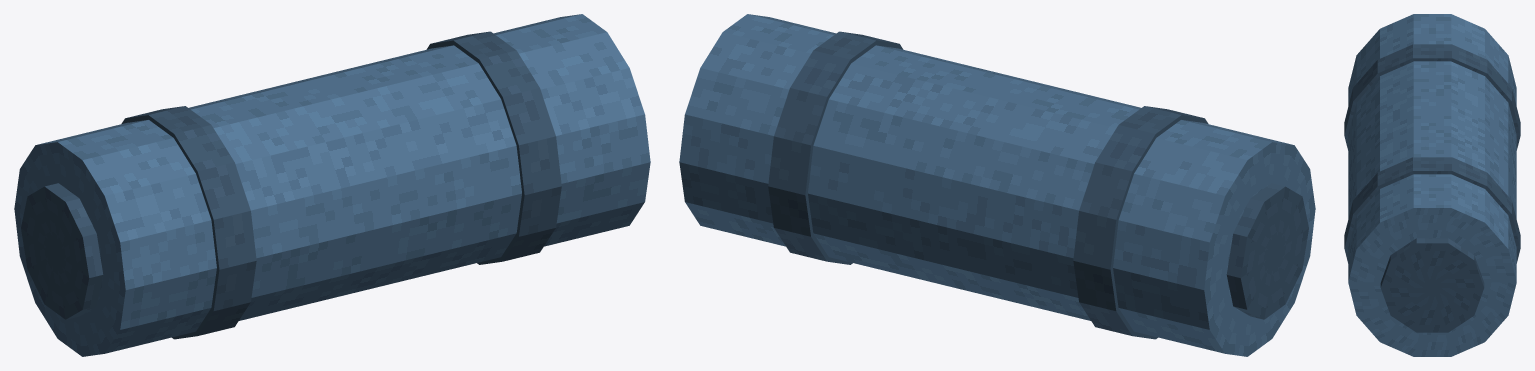
File: rollmat.glb
The picture shows the model from 3 angles, left to right: view 1: azimuth 30°, elevation 25°; view 2: azimuth 150°, elevation 25°; view 3: azimuth 270°, elevation 25°; orthographic projection. The views are drawn at different scales.
Parts seen in each view (by area): view 1: block_rolled fabric, block_compression strap (×2), block_roll core; view 2: block_rolled fabric, block_compression strap (×2), block_roll core; view 3: block_rolled fabric, block_roll core, block_compression strap (×2).
Part boxes in pixels (x1=…): block_rolled fabric: x1=14, y1=14, x2=650, y2=356; block_compression strap (×2): x1=121, y1=31, x2=561, y2=339; block_roll core: x1=21, y1=183, x2=103, y2=319; block_rolled fabric: x1=679, y1=14, x2=1315, y2=356; block_compression strap (×2): x1=768, y1=31, x2=1208, y2=339; block_roll core: x1=1226, y1=183, x2=1308, y2=319; block_rolled fabric: x1=1348, y1=14, x2=1516, y2=356; block_roll core: x1=1380, y1=238, x2=1484, y2=332; block_compression strap (×2): x1=1344, y1=44, x2=1520, y2=263.
Size of the model in its own units: 0.34 by 0.1203 by 0.1234.
Materials: 1 (1 with a texture image).
